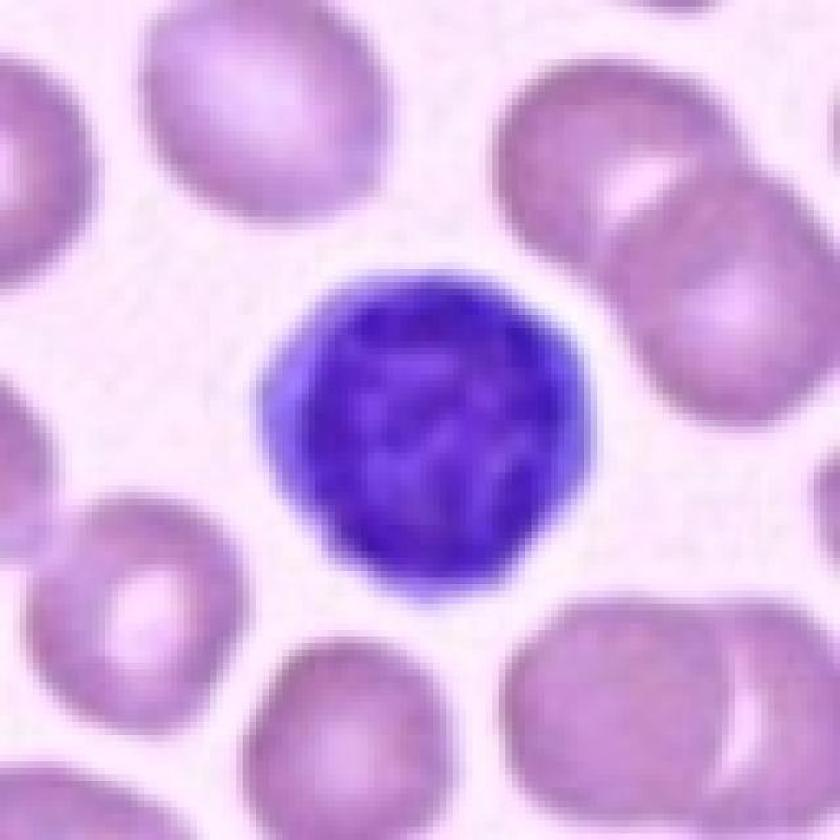lymphocyte: (250, 262, 610, 617)
